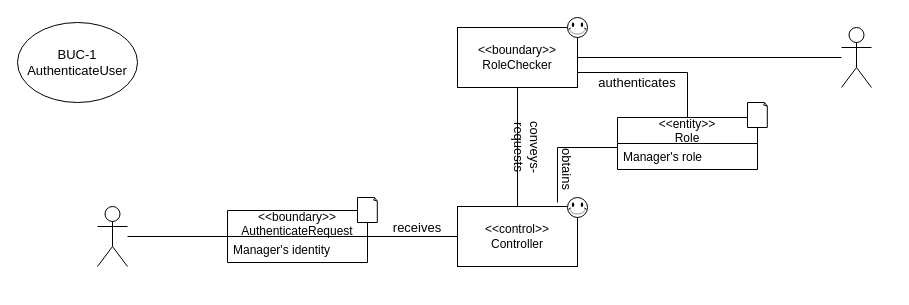
This 909x305 diagram has some shape labels left out. Each missing label, with the centre of its shape:
"Authenticator" goes at point 856,57.
"Manager" goes at point 112,236.
